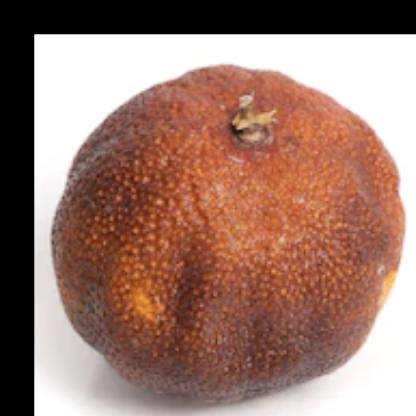rotten: (48, 65, 403, 404)
